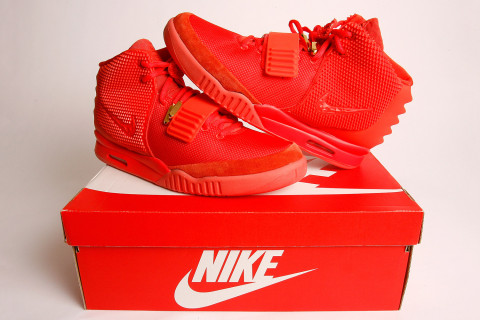Yeezy Red October: (161, 8, 415, 172), (83, 37, 309, 199)
